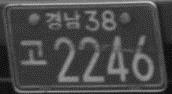2: (54, 35, 79, 82), (80, 35, 105, 82)
3: (84, 10, 100, 31)
4: (106, 35, 129, 81)
6: (131, 34, 155, 81)
8: (102, 9, 116, 31)
경남_O: (44, 11, 82, 31)
고: (18, 39, 47, 65)
